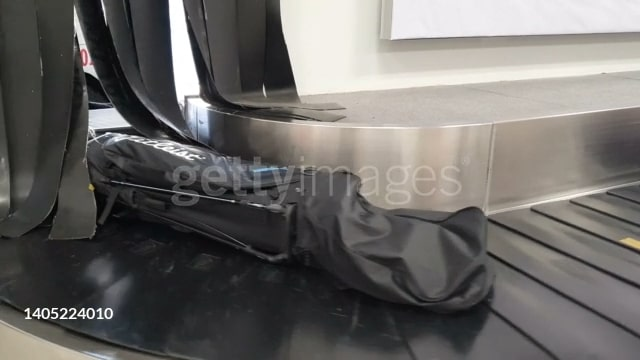baggage: (85, 121, 513, 309)
